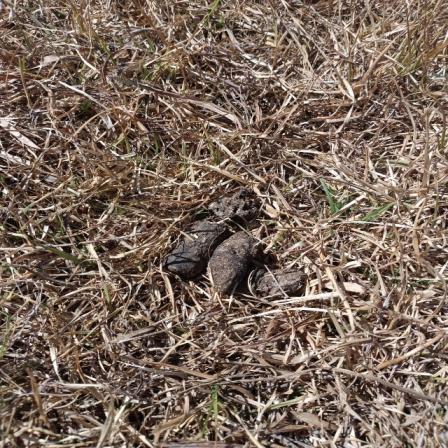dog-poop: (154, 182, 304, 307)
